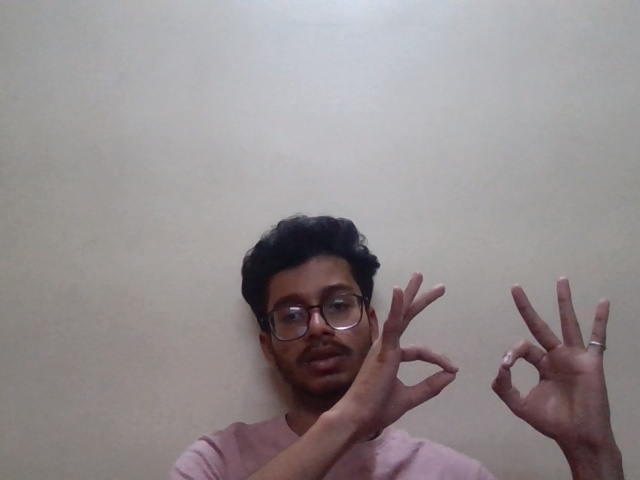nice: (353, 277, 621, 442)
